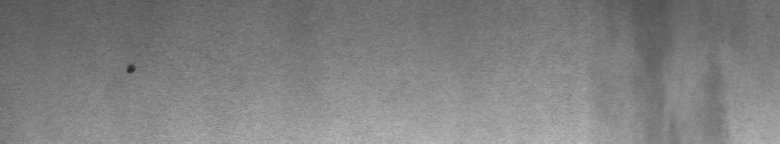fi: (121, 56, 140, 82)
